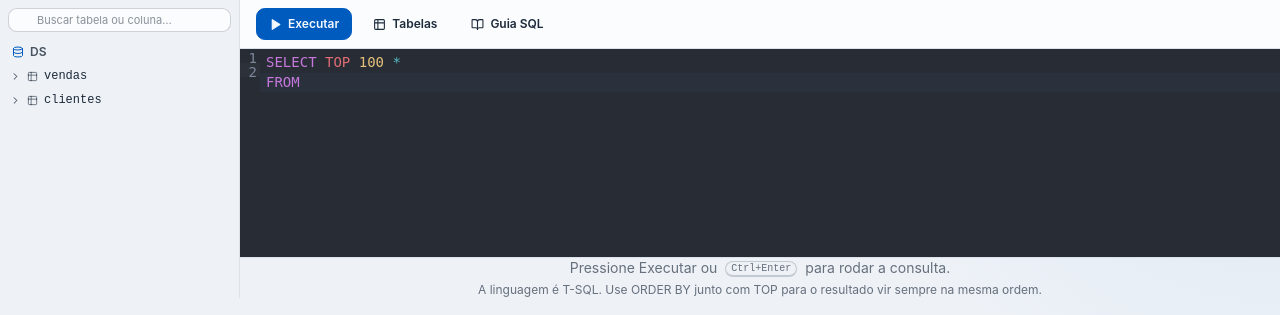
Test: QueryPanel com navegador de tabelas › clicar numa tabela insere no editor, com espaço quando necessário
This screenshot has width=1280, height=315.
What coordinates should you click on to do the following:
click the button titled "Inserir ds_test.clientes"
I would click on:
 (131, 100)
Its box is [27,88,235,112].
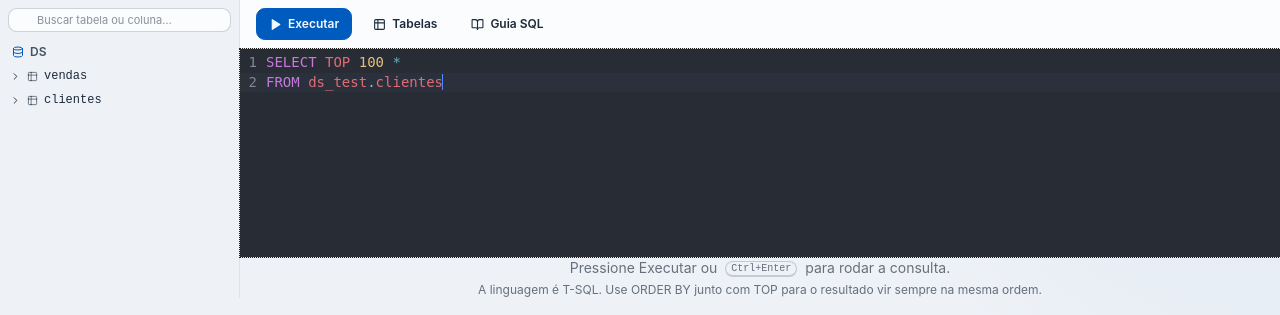
Expected: the field with class "cm-content" shows "FROM ds_test.clientes", [260,54,1279,92]
